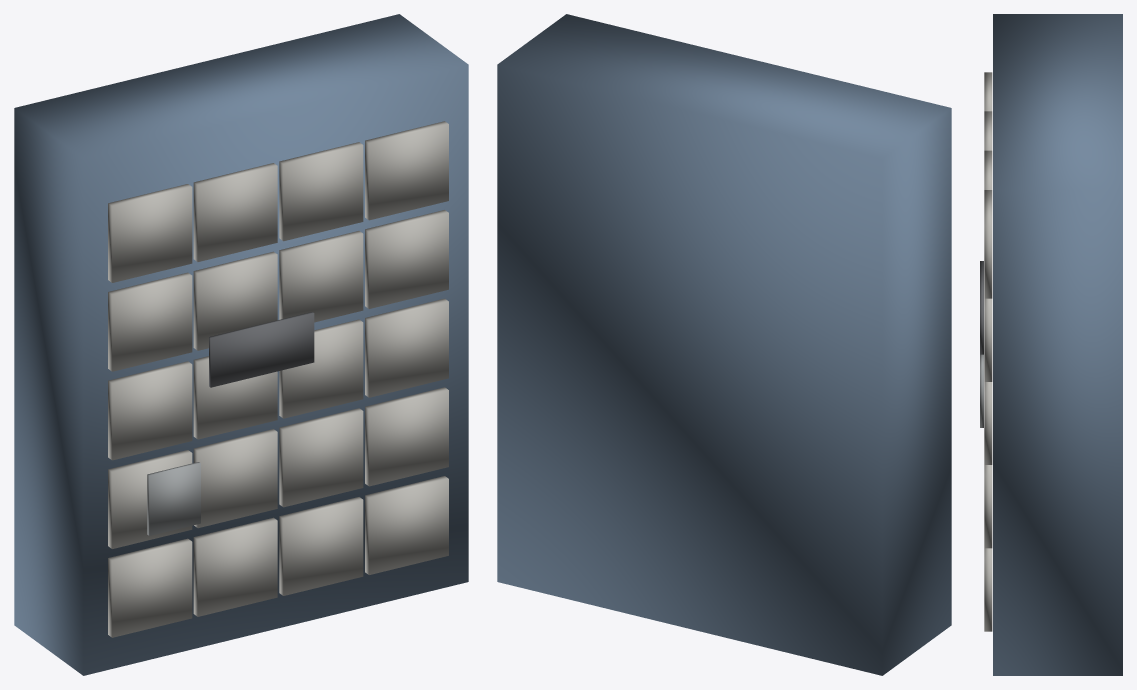
The model's file is parcel_locker__weathered.glb.
3 views of the same model, side by side, from view 1: azimuth 30°, elevation 25°; view 2: azimuth 150°, elevation 25°; view 3: azimuth 270°, elevation 25° (orthographic). The views are drawn at different scales.
Visible parts, largest first — view 1: world; view 2: world; view 3: world.
Boxes of the visible parts, x1,y1,x2,y2 form: world: [14, 14, 468, 675]; world: [497, 14, 951, 675]; world: [980, 14, 1122, 675].
Size of the model in its own units: 1.35 by 1.73 by 0.4615.
